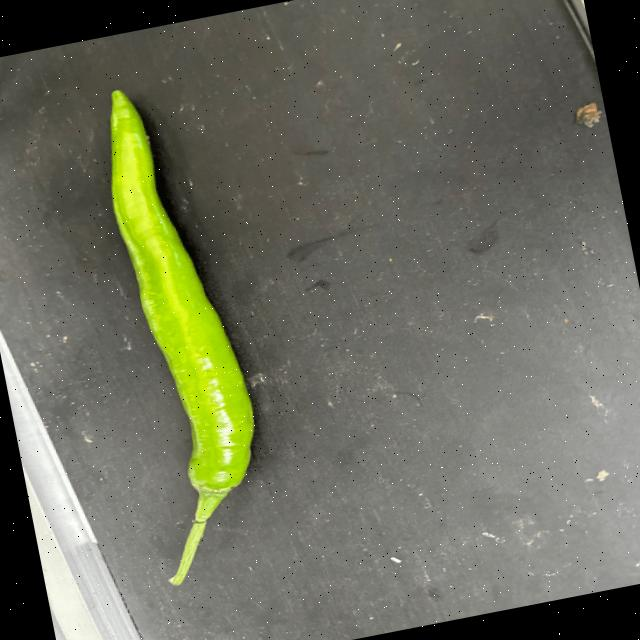chili: (110, 88, 253, 494)
